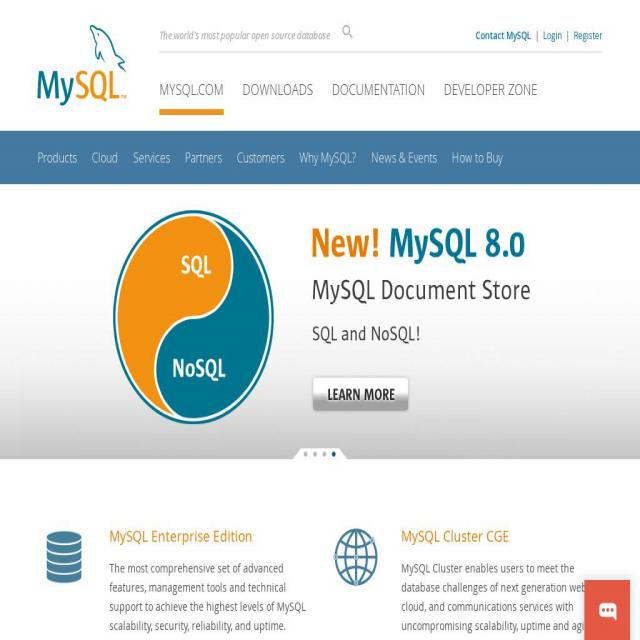button: (330, 502, 624, 640), (39, 500, 312, 640), (23, 7, 132, 120), (312, 378, 408, 410), (584, 579, 630, 640), (443, 79, 538, 99), (332, 79, 425, 99), (243, 79, 313, 99), (33, 144, 81, 172), (159, 79, 224, 99), (128, 146, 174, 173), (371, 149, 437, 167), (179, 146, 226, 171), (299, 149, 356, 167), (452, 149, 502, 167), (88, 146, 122, 172), (237, 149, 284, 167), (339, 22, 355, 40)
field: (161, 17, 364, 49)
